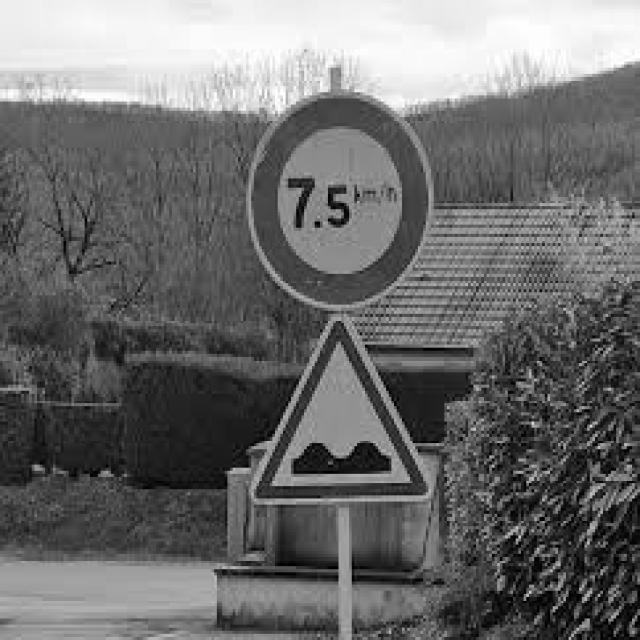danger: (246, 313, 437, 500)
forbidden: (245, 89, 435, 308)
